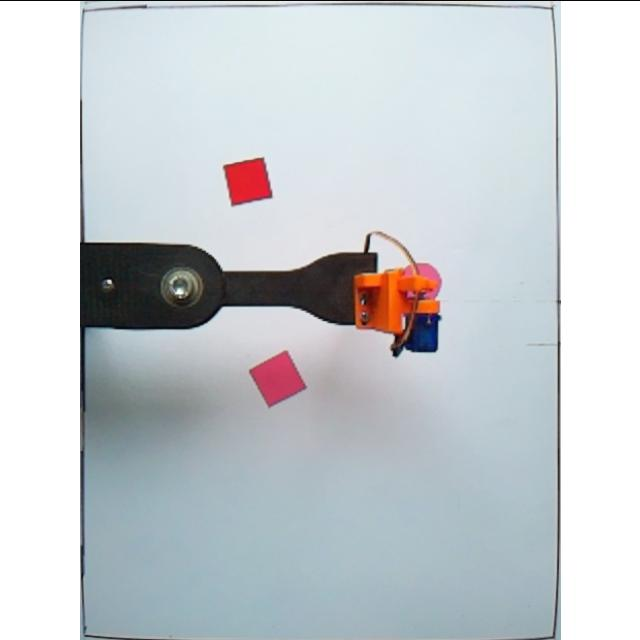pinkCircle: (392, 263, 442, 299)
pinkSquare: (247, 348, 306, 407)
redSquare: (222, 155, 274, 207)
